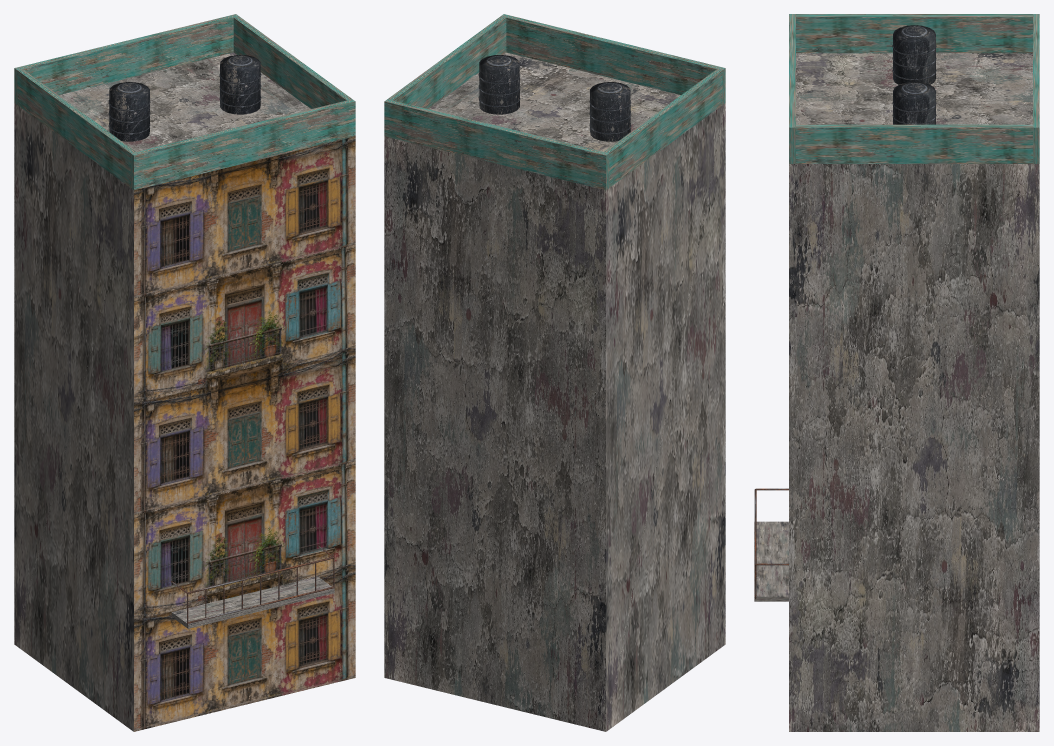
The model's file is bld_oldhaka_block_3.glb.
3 views of the same model, side by side, from view 1: azimuth 30°, elevation 25°; view 2: azimuth 150°, elevation 25°; view 3: azimuth 270°, elevation 25° (orthographic). The views are drawn at different scales.
Visible parts, largest first — view 1: bld_oldhaka_block_3; view 2: bld_oldhaka_block_3; view 3: bld_oldhaka_block_3.
Boxes of the visible parts, x1,y1,x2,y2 form: bld_oldhaka_block_3: (14, 14, 355, 731); bld_oldhaka_block_3: (384, 14, 725, 731); bld_oldhaka_block_3: (754, 14, 1039, 731).
Size of the model in its own units: 6 by 15.2 by 6.38.
5 materials, 5 textured.
